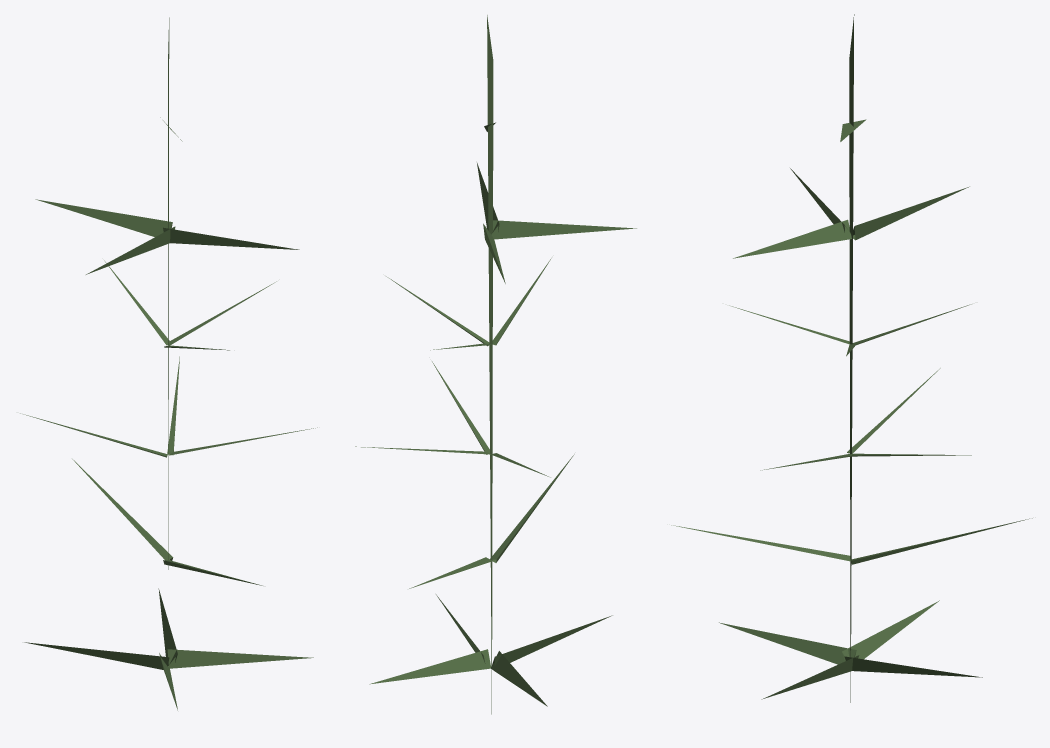
File: Corn_1.lod3.glb
The picture shows the model from 3 angles, left to right: view 1: azimuth 30°, elevation 25°; view 2: azimuth 150°, elevation 25°; view 3: azimuth 270°, elevation 25°; orthographic projection.
Parts seen in each view (by area): view 1: Corn_1; view 2: Corn_1; view 3: Corn_1.
Boxes of the visible parts, x1,y1,x2,y2 form: Corn_1: [20, 17, 317, 710]; Corn_1: [355, 15, 636, 714]; Corn_1: [671, 14, 1032, 702].
Size of the model in its own units: 0.6539 by 1.98 by 0.9199.
